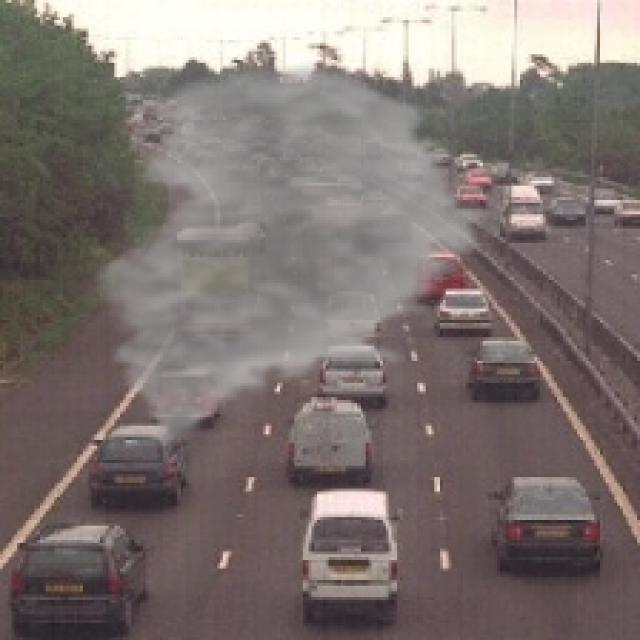smoke: (83, 60, 497, 451)
